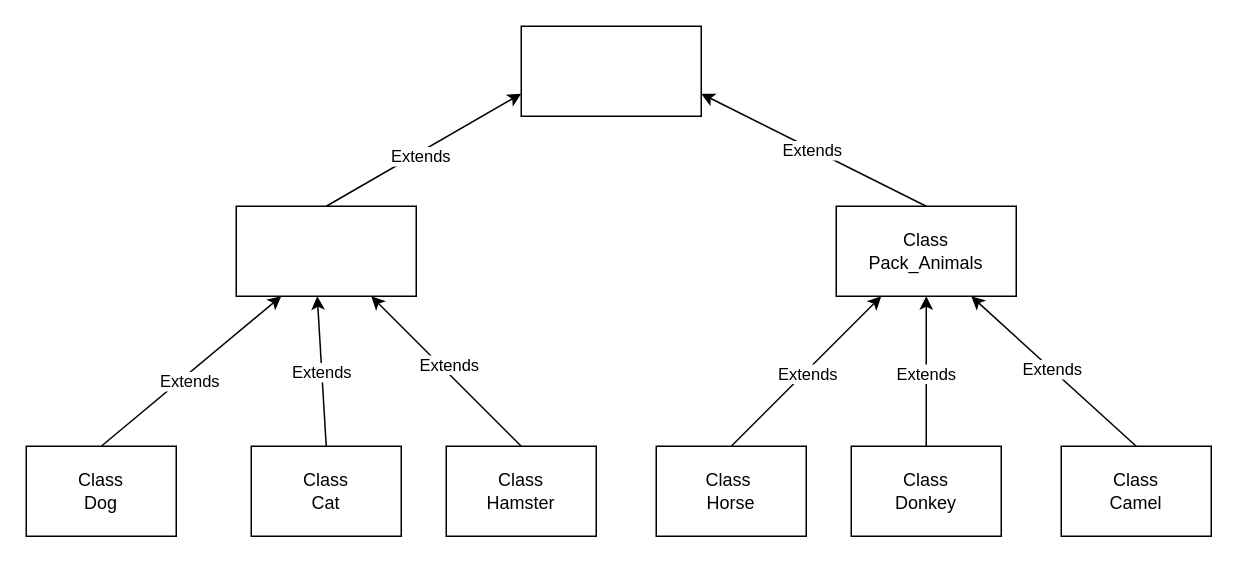
This 1238x563 diagram has some shape labels left out. The shapes that lost their labels are listed below. From the top down, each one's centre as x and y in pixels, then its label:
the point at 610,70: Class Animals
the point at 325,250: Class Pets
